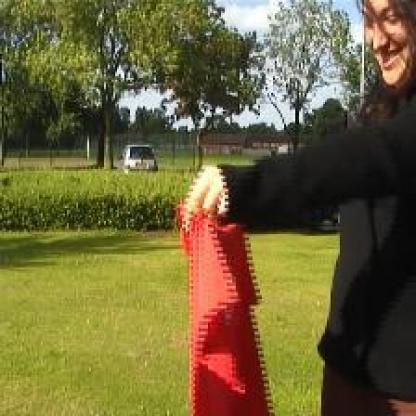other: (174, 197, 277, 412)
